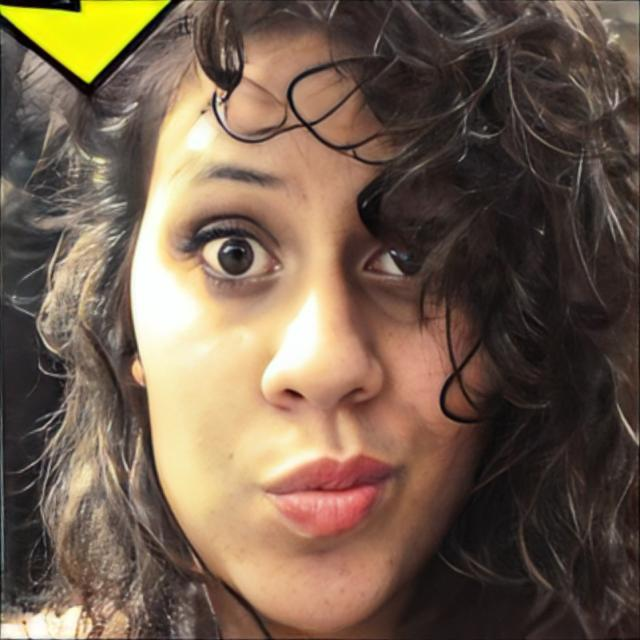surprise: (130, 17, 493, 640)
